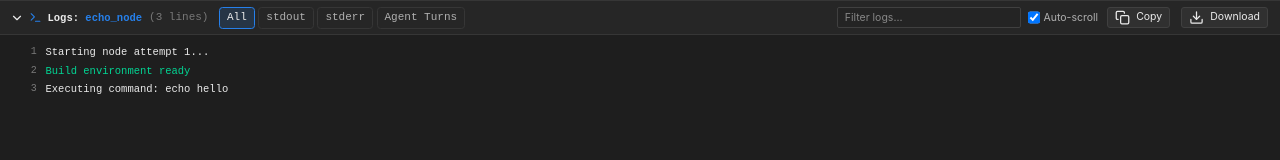
Scenario: LogsPanel component (Task 6.4) › filters log lines with query input
Check: the text "Starting node attempt 1..." is shown, box [46,46,209,58]
Type "Executing" into the field with placeholder "Filter logs..." at (929, 18), box [837,7,1021,28]
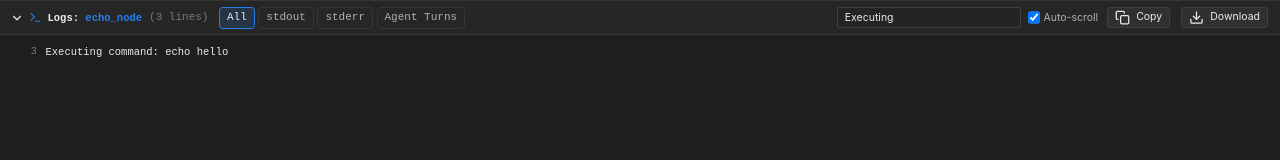
Check: the text "Executing command: echo hello" is shown, box [46,46,228,58]
Check: the text "Starting node attempt 1..." is gone
Check: the text "1" is gone
